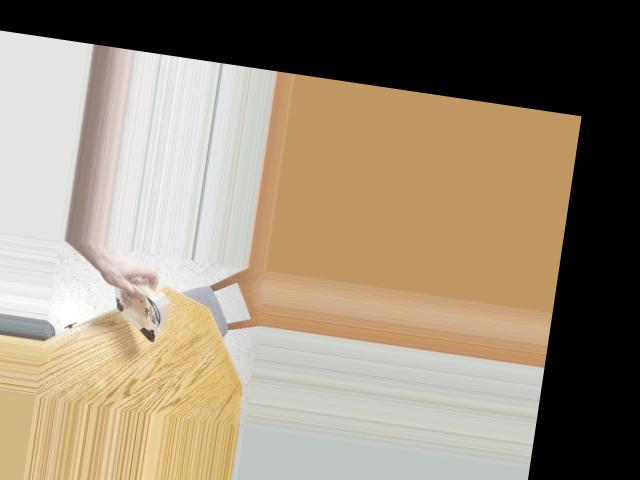cheese: (90, 274, 180, 341)
